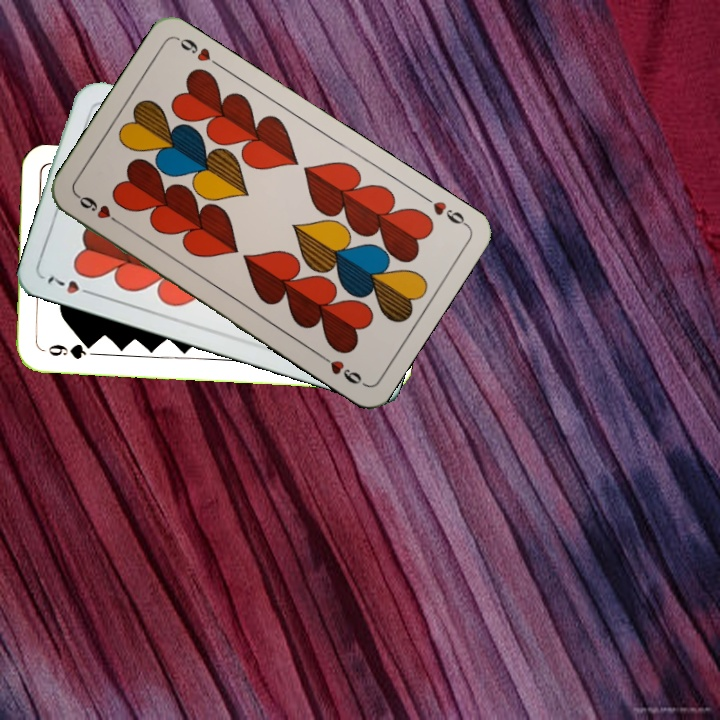G9: (44, 340, 96, 362)
H7: (43, 272, 99, 299)
H9: (73, 190, 125, 228), (418, 191, 470, 229)
